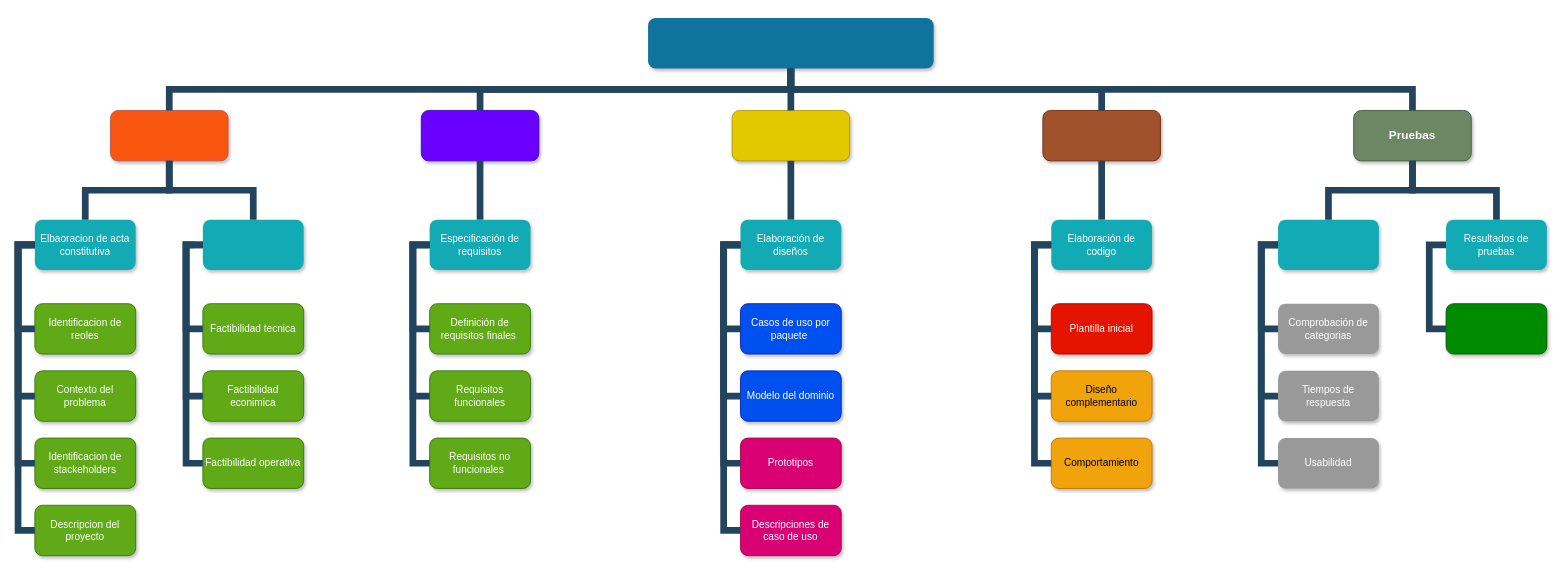
Image size: 1567x576. Some labels were removed from this diagram. The centre of each missing label's shape, as x and y in pixels:
"Aceptación del sistema" goes at (1497,329).
"Administracion del proyecto" goes at (169,136).
"Construcción" goes at (1102,136).
"Diseño" goes at (791,136).
"Obtención de factibilidad" goes at (253,246).
"Plan de pruebas" goes at (1328,246).
"Requerimientos del proyecto" goes at (480,136).
"Sistema" goes at (791,44).
